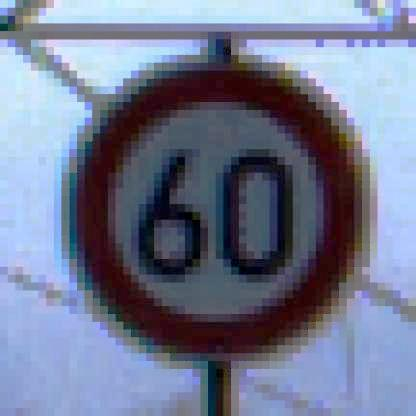Speed Limit -60-: (57, 50, 372, 368)
